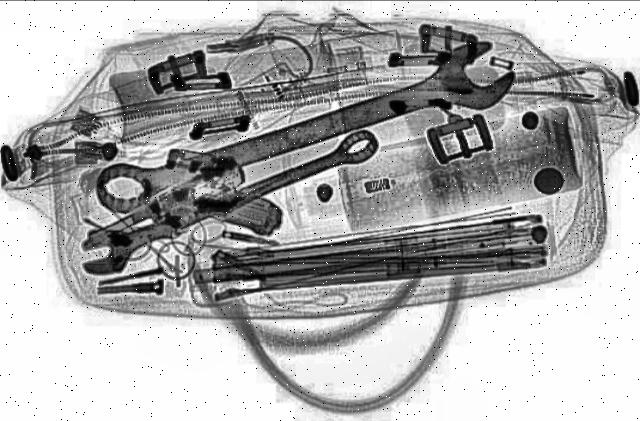Gun: (76, 166, 298, 294)
Wrench: (72, 39, 538, 224), (62, 124, 400, 282)
